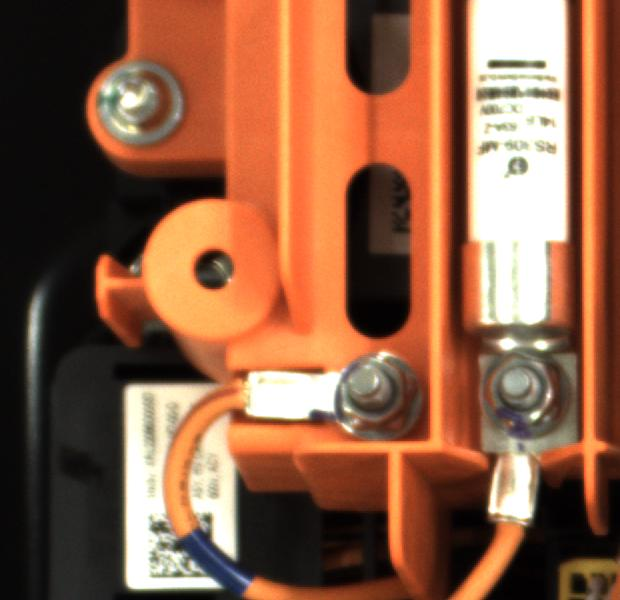screw_m: (78, 52, 211, 155)
screw_s: (477, 347, 590, 449), (330, 351, 432, 443)
